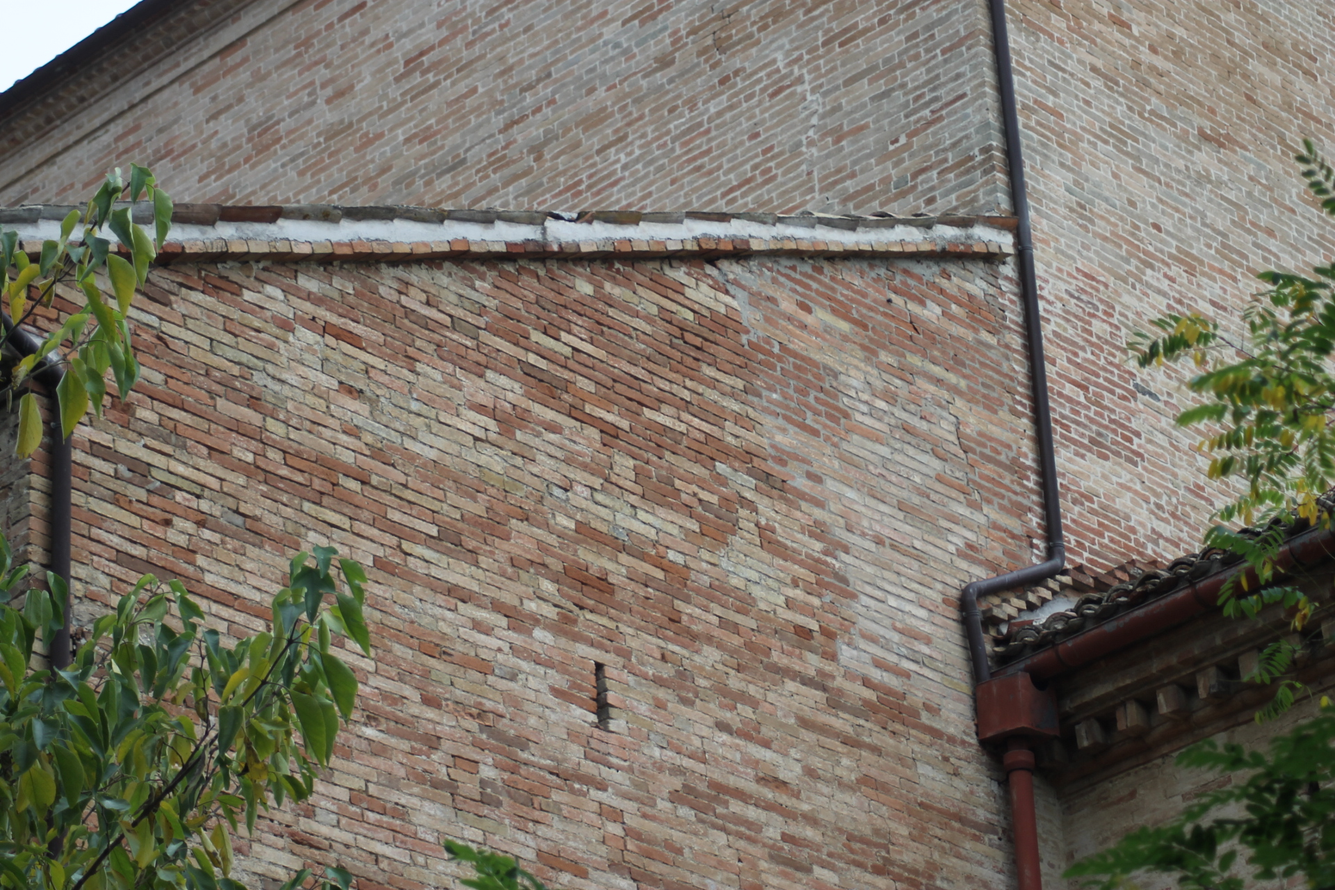Crack: (870, 273, 1028, 581)
